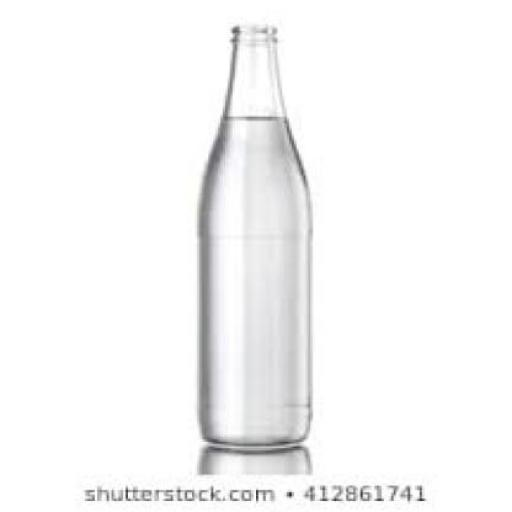glass: (199, 24, 308, 446)
